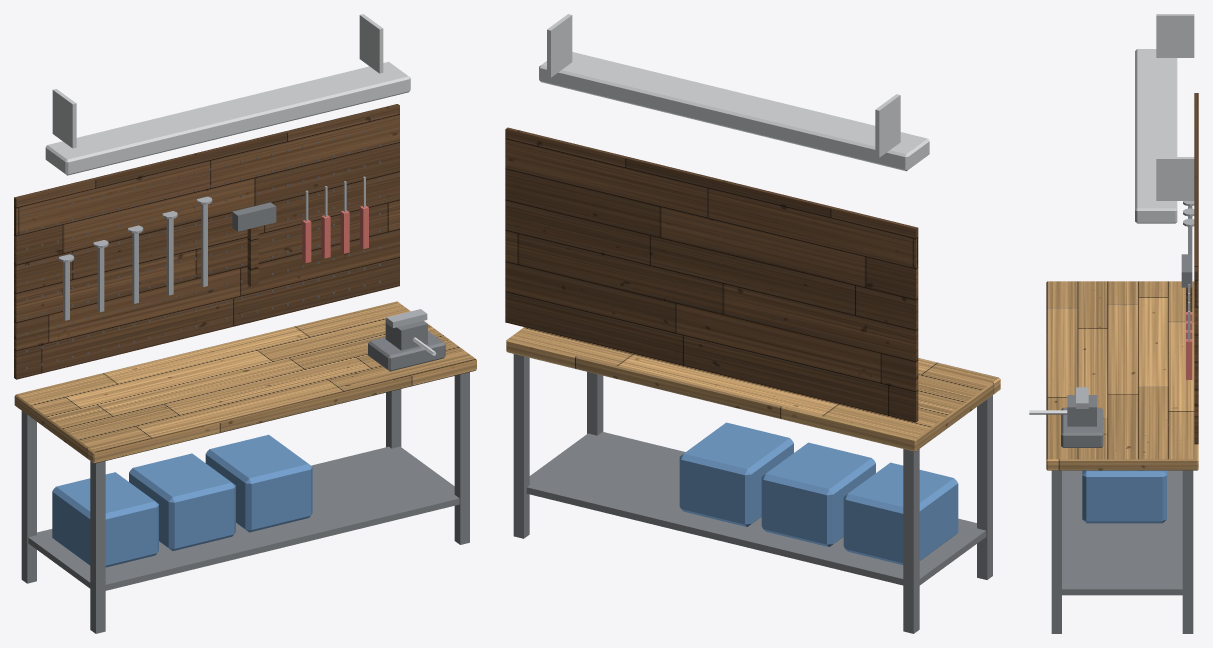
Rendered from workbench.glb.
3 renders of one model, left to right at view 1: azimuth 30°, elevation 25°; view 2: azimuth 150°, elevation 25°; view 3: azimuth 270°, elevation 25°, orthographic. The views are drawn at different scales.
Parts seen in each view (by area): view 1: workbench_dkwood, workbench_wood, workbench_steel_d, workbench_drum_b, workbench_metal, workbench_steel, workbench_tool_r, workbench_dark; view 2: workbench_dkwood, workbench_steel_d, workbench_drum_b, workbench_wood, workbench_metal; view 3: workbench_wood, workbench_steel_d, workbench_metal, workbench_drum_b, workbench_dkwood, workbench_steel, workbench_tool_r.
Boxes of the visible parts, bbox=[...] form: workbench_dkwood: bbox=[14, 104, 399, 379]; workbench_wood: bbox=[14, 301, 476, 463]; workbench_steel_d: bbox=[21, 202, 469, 633]; workbench_drum_b: bbox=[52, 434, 312, 567]; workbench_metal: bbox=[45, 14, 410, 175]; workbench_steel: bbox=[59, 176, 427, 327]; workbench_tool_r: bbox=[302, 206, 368, 263]; workbench_dark: bbox=[26, 127, 380, 369]; workbench_dkwood: bbox=[505, 127, 918, 422]; workbench_steel_d: bbox=[513, 354, 992, 633]; workbench_drum_b: bbox=[679, 422, 958, 564]; workbench_wood: bbox=[506, 327, 1000, 451]; workbench_metal: bbox=[539, 14, 929, 171]; workbench_wood: bbox=[1046, 281, 1198, 470]; workbench_steel_d: bbox=[1051, 254, 1193, 633]; workbench_metal: bbox=[1135, 14, 1194, 223]; workbench_drum_b: bbox=[1082, 470, 1166, 523]; workbench_dkwood: bbox=[1186, 93, 1198, 444]; workbench_steel: bbox=[1076, 201, 1194, 408]; workbench_tool_r: bbox=[1186, 312, 1192, 379].
Size of the model in its own units: 2 by 2.4 by 0.8.
10 materials, 2 textured.
